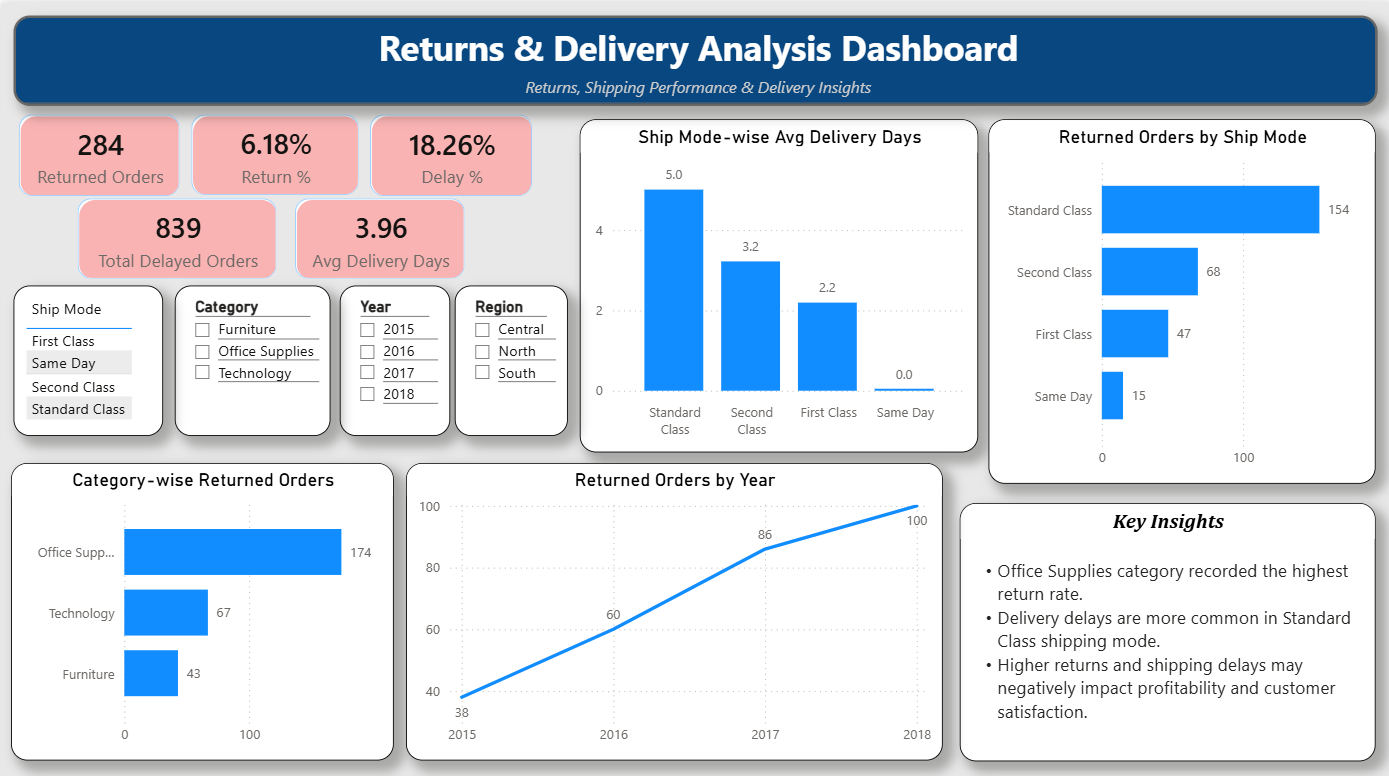

The dashboard page shown, as its layout file describes it:
{"tool":"powerbi","page":{"name":"Returns & Delivery Analysis","canvas":[1280,720],"ordinal":2},"visuals":[{"type":"cardVisual","fields":{"Data":["MeasureTable.Returned Orders"]},"box":[12.1,97.7,158,85.7],"z":0},{"type":"cardVisual","fields":{"Data":["MeasureTable.Return %"]},"box":[170.1,97.7,164.1,84.5],"z":1000},{"type":"cardVisual","fields":{"Data":["MeasureTable.Total Delayed Orders"]},"box":[65.1,174.9,193,84.5],"z":2000},{"type":"cardVisual","fields":{"Data":["MeasureTable.Delay %"]},"box":[334.2,97.7,159.3,85.7],"z":3000},{"type":"clusteredBarChart","title":"Category-wise Returned Orders","fields":{"Category":["Orders.Category"],"Y":["MeasureTable.Returned Orders"]},"box":[9.7,423.5,352.3,273.9],"z":4000},{"type":"clusteredColumnChart","title":"Ship Mode-wise Avg Delivery Days","fields":{"Category":["Orders.Ship Mode"],"Y":["MeasureTable.Avg Delivery Days"]},"box":[532,107.4,366.8,306.4],"z":5000},{"type":"cardVisual","fields":{"Data":["MeasureTable.Avg Delivery Days"]},"box":[265.4,174.9,166.5,84.5],"z":6000},{"type":"slicer","fields":{"Values":["DateTable.Year"]},"box":[311.3,259.4,101.3,138.7],"z":7000},{"type":"slicer","fields":{"Values":["Orders.Region"]},"box":[417.4,259.4,103.8,138.7],"z":8000},{"type":"slicer","fields":{"Values":["Orders.Category"]},"box":[159.3,259.4,143.6,138.7],"z":9000},{"type":"tableEx","fields":{"Values":["Orders.Ship Mode"]},"box":[12.1,259.4,137.5,138.7],"z":10000},{"type":"textbox","title":"Key Insights","box":[881.9,459.7,382.4,237.7],"z":11000},{"type":"textbox","title":"Returns & Delivery Analysis Dashboard","box":[12.1,12.1,1254.7,83.2],"z":12000},{"type":"clusteredBarChart","fields":{"Category":["Orders.Ship Mode"],"Y":["MeasureTable.Returned Orders"]},"box":[908.4,107.4,355.9,335.4],"z":13000},{"type":"lineChart","fields":{"Y":["MeasureTable.Returned Orders"],"Category":["DateTable.Year"]},"box":[372.8,423.5,493.4,273.9],"z":14000}]}

Visuals, with their boxes in screenshot pixels (x1, y1, x2, y2), scaled from the page's 1280x720 canvas onto the 1389x776 screenshot:
cardVisual - MeasureTable.Returned Orders: {"x1": 13, "y1": 105, "x2": 185, "y2": 198}
cardVisual - MeasureTable.Return %: {"x1": 185, "y1": 105, "x2": 363, "y2": 196}
cardVisual - MeasureTable.Total Delayed Orders: {"x1": 71, "y1": 189, "x2": 280, "y2": 280}
cardVisual - MeasureTable.Delay %: {"x1": 363, "y1": 105, "x2": 536, "y2": 198}
"Category-wise Returned Orders" clusteredBarChart: {"x1": 11, "y1": 456, "x2": 393, "y2": 752}
"Ship Mode-wise Avg Delivery Days" clusteredColumnChart: {"x1": 577, "y1": 116, "x2": 975, "y2": 446}
cardVisual - MeasureTable.Avg Delivery Days: {"x1": 288, "y1": 189, "x2": 469, "y2": 280}
slicer - DateTable.Year: {"x1": 338, "y1": 280, "x2": 448, "y2": 429}
slicer - Orders.Region: {"x1": 453, "y1": 280, "x2": 566, "y2": 429}
slicer - Orders.Category: {"x1": 173, "y1": 280, "x2": 329, "y2": 429}
tableEx - Orders.Ship Mode: {"x1": 13, "y1": 280, "x2": 162, "y2": 429}
"Key Insights" textbox: {"x1": 957, "y1": 495, "x2": 1372, "y2": 752}
"Returns & Delivery Analysis Dashboard" textbox: {"x1": 13, "y1": 13, "x2": 1375, "y2": 103}
clusteredBarChart - Orders.Ship Mode x MeasureTable.Returned Orders: {"x1": 986, "y1": 116, "x2": 1372, "y2": 477}
lineChart - MeasureTable.Returned Orders x DateTable.Year: {"x1": 405, "y1": 456, "x2": 940, "y2": 752}
